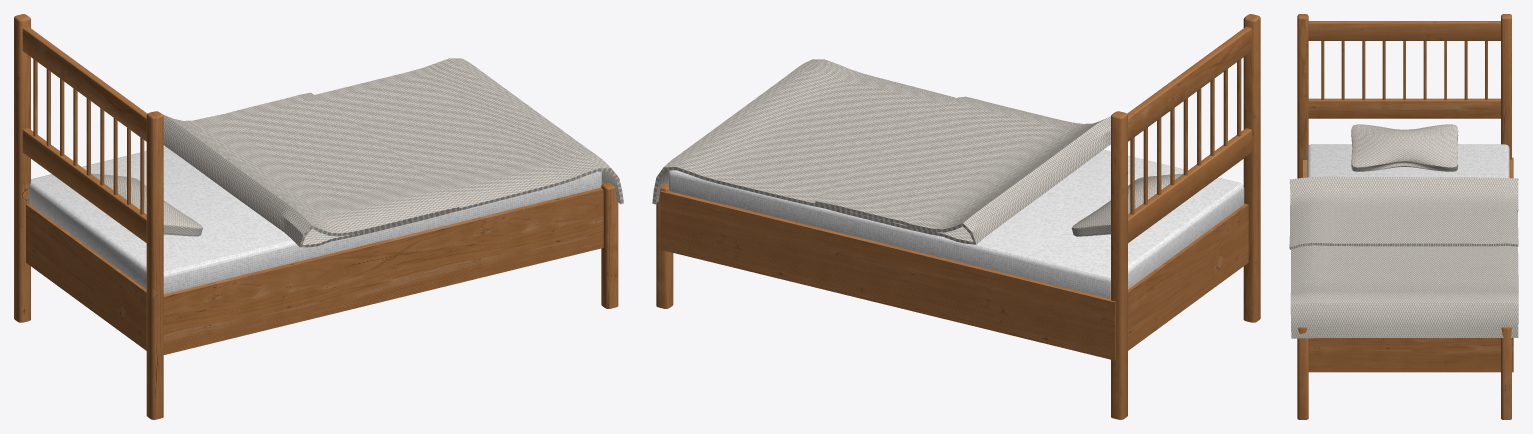
Rendered from Bed.fbx.
3 views of the same model, side by side, from view 1: azimuth 30°, elevation 25°; view 2: azimuth 150°, elevation 25°; view 3: azimuth 270°, elevation 25° (orthographic). The views are drawn at different scales.
Visible parts, largest first — view 1: Cube.009; view 2: Cube.009; view 3: Cube.009.
Part boxes in pixels (left/top/right/bottom): Cube.009: left=14, top=14, right=623, bottom=419; Cube.009: left=652, top=14, right=1260, bottom=419; Cube.009: left=1289, top=14, right=1518, bottom=419.
Size of the model in its own units: 294 by 180 by 162.
